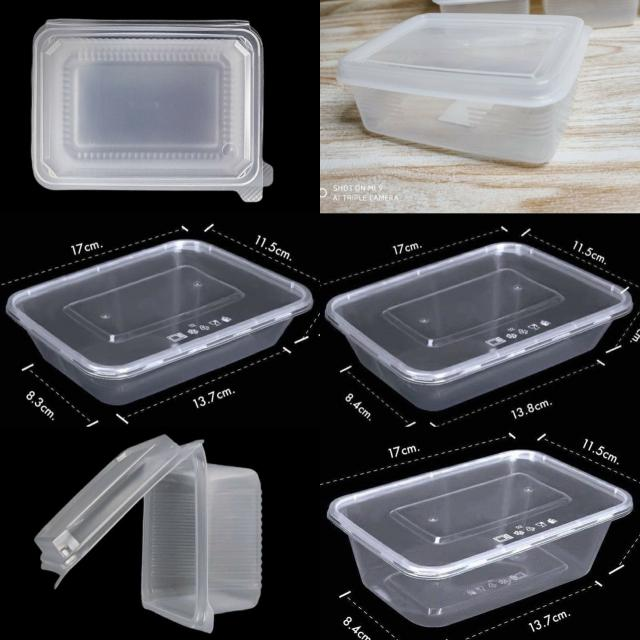Single-Use-Plastic: (328, 450, 633, 627), (325, 242, 633, 411), (6, 240, 313, 405), (35, 435, 261, 632), (31, 20, 273, 201), (337, 14, 592, 164)
